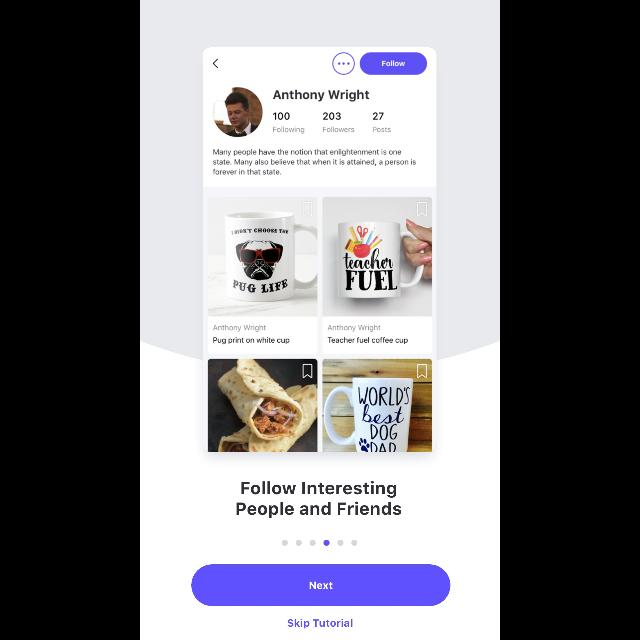image: (203, 48, 437, 452)
pageindicator: (282, 540, 358, 546)
text: (237, 480, 401, 518), (288, 618, 352, 628)
textbutton: (192, 564, 450, 606)
